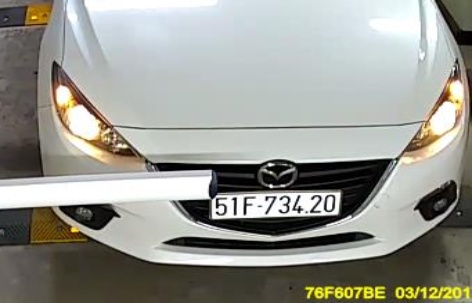plate: (204, 187, 344, 218)
